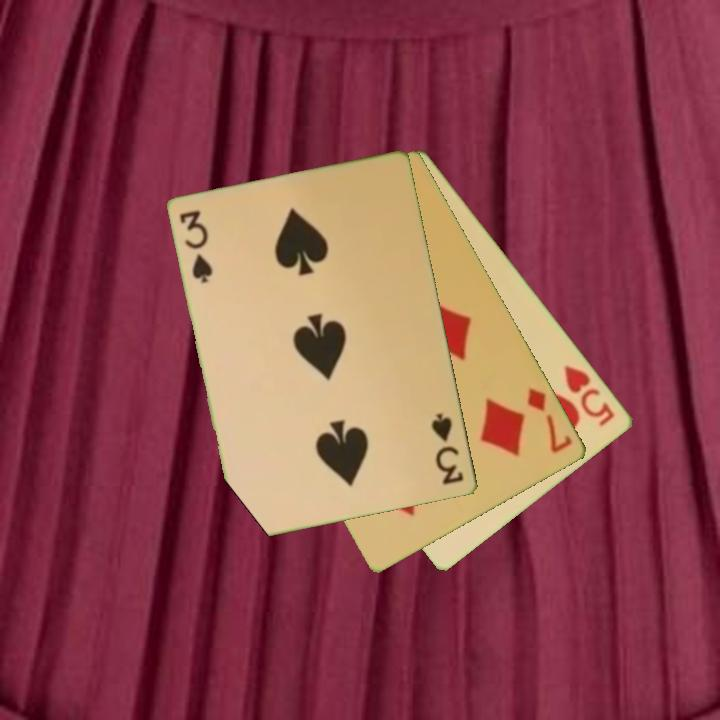3s: (176, 206, 217, 287), (428, 410, 467, 488)
5h: (561, 361, 618, 430)
7d: (524, 384, 576, 456)
